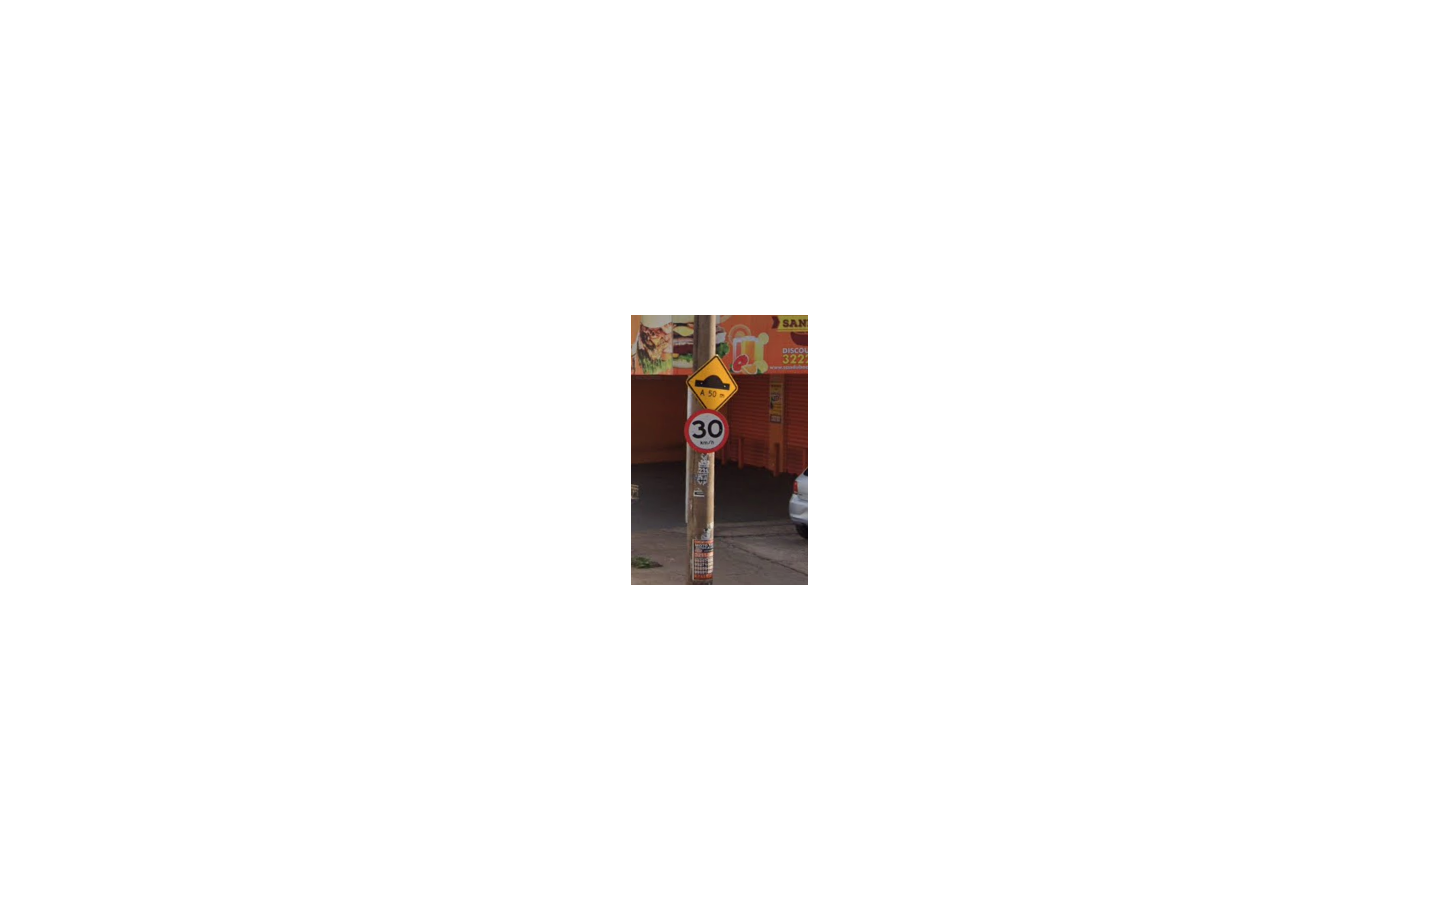l50m: (686, 354, 738, 411)
